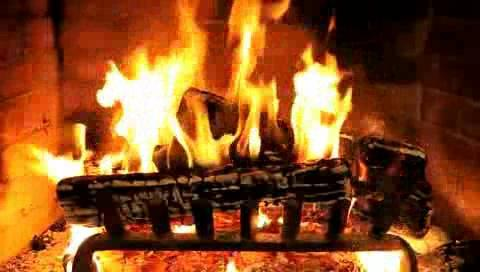fire: (103, 9, 352, 179)
